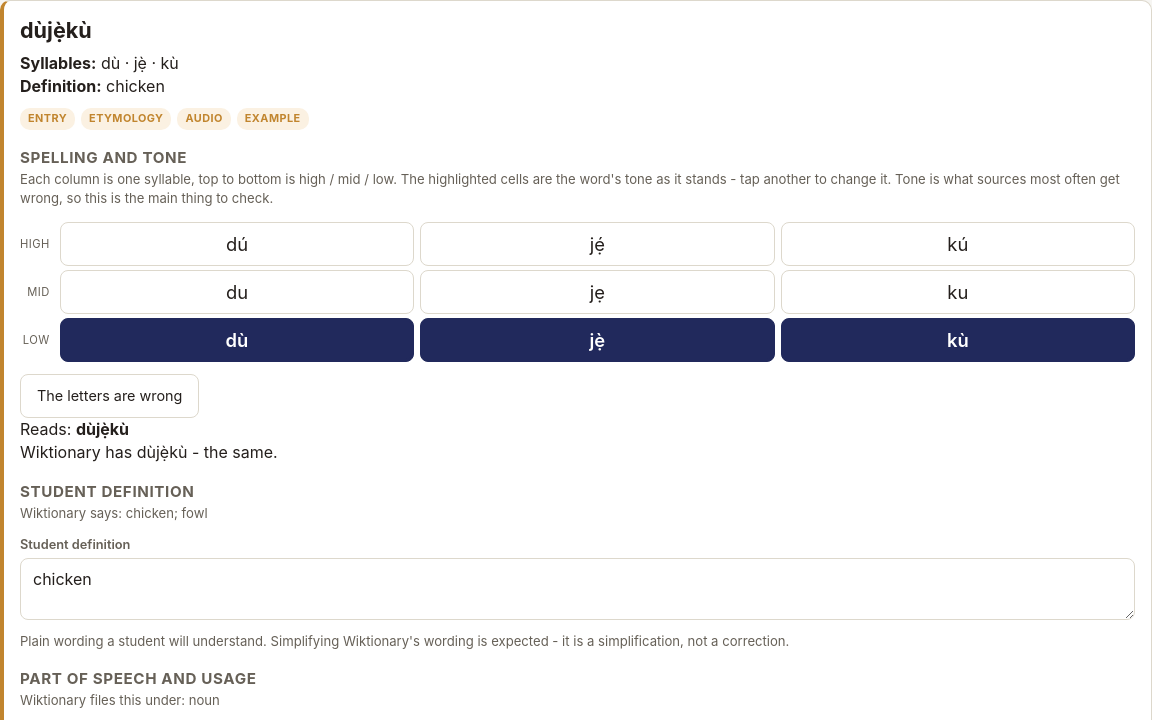
Test: the comparison line says WHICH kind of difference it is › stops saying so once the reviewer puts it back
The image size is (1152, 720).
Expected: the element named "Tone editor" is shown, [20,170,1135,418]
Click the button with aria-label "Syllable 2 high tone".
click(597, 244)  # box [420,222,775,266]
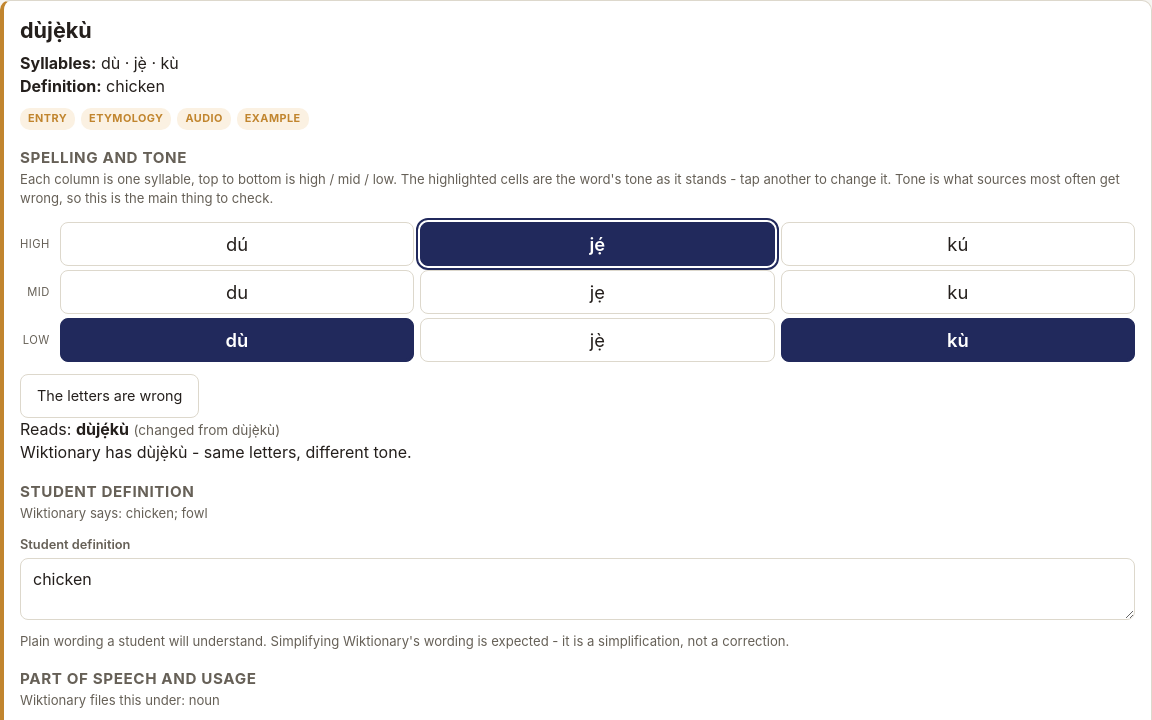
Click the button with aria-label "Syllable 2 low tone".
click(597, 340)  # box [420,318,775,362]
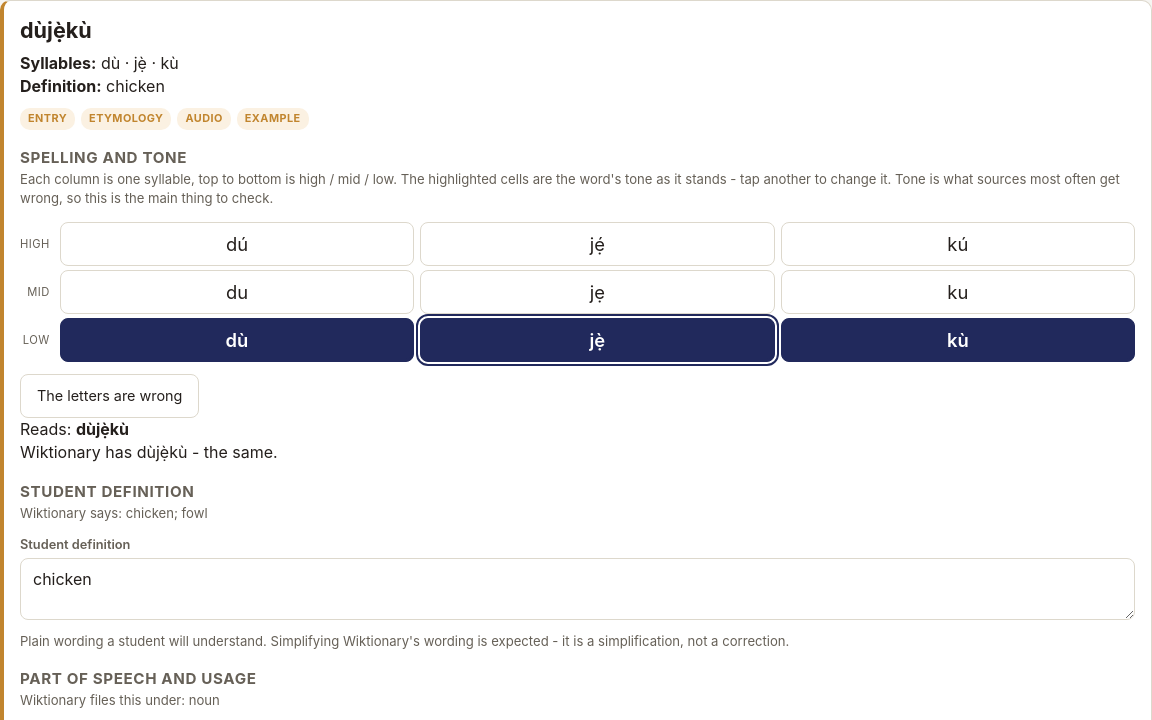
Result: the text labelled "changed from" is gone
